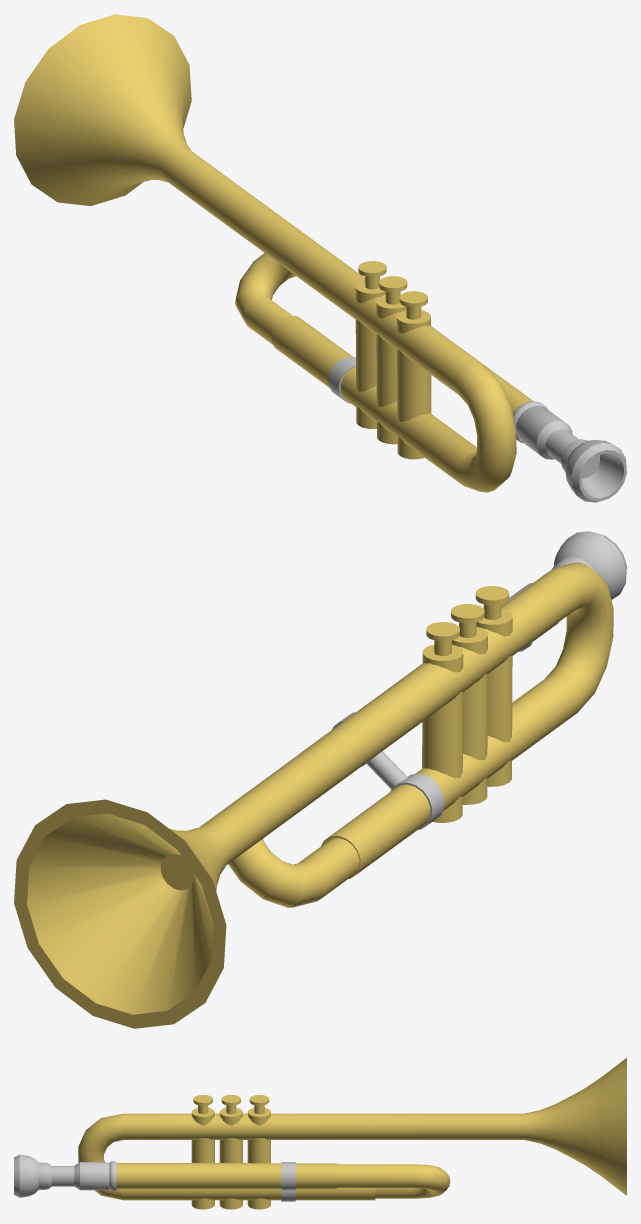
The model's file is trombonette_merged.fbx.
3 views of the same model, one above another, from view 1: azimuth 30°, elevation 25°; view 2: azimuth 150°, elevation 25°; view 3: azimuth 270°, elevation 25° (orthographic). The views are drawn at different scales.
Parts seen in each view (by area): view 1: Trombonette.001; view 2: Trombonette.001; view 3: Trombonette.001.
Boxes of the visible parts, x1,y1,x2,y2 form: Trombonette.001: (14, 14, 626, 502); Trombonette.001: (14, 531, 626, 1028); Trombonette.001: (14, 1057, 626, 1209).
Bounding box in the file's own units: 15.85 × 17.66 × 69.53.
